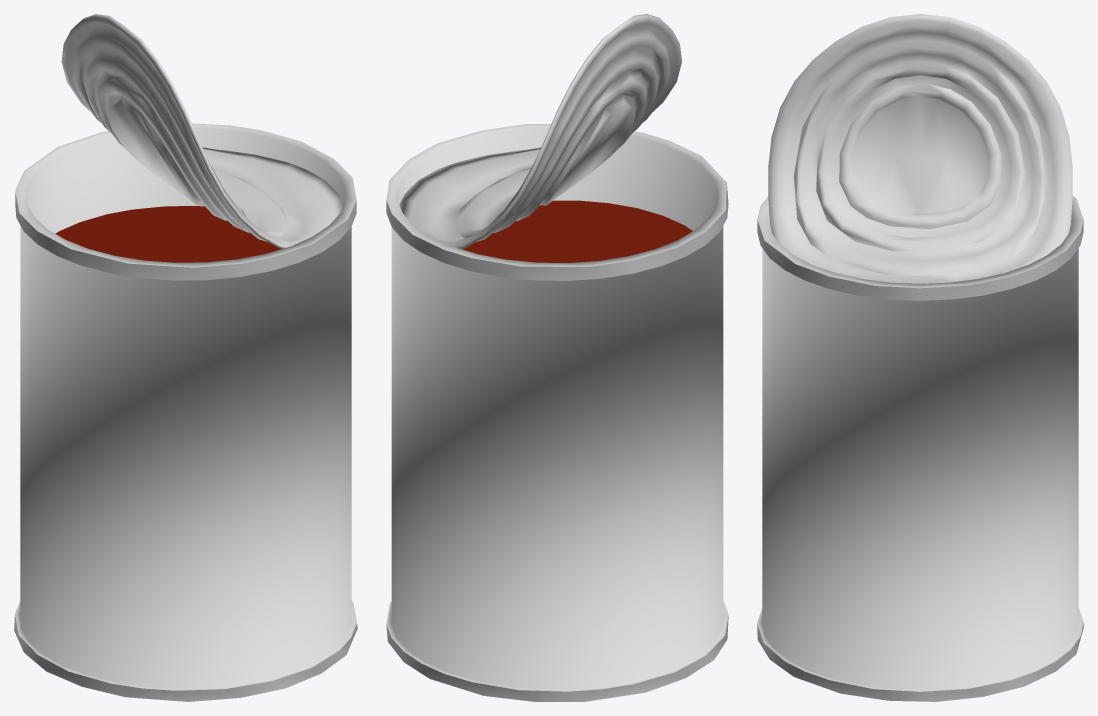
File: tomatburck50.fbx
The picture shows the model from 3 angles, left to right: view 1: azimuth 30°, elevation 25°; view 2: azimuth 150°, elevation 25°; view 3: azimuth 270°, elevation 25°; orthographic projection. The views are drawn at different scales.
Visible parts, largest first — view 1: Burk.001, Lid.001, sos.001; view 2: Burk.001, Lid.001, sos.001; view 3: Burk.001, Lid.001.
Boxes of the visible parts, bbox=[...] form: Burk.001: bbox=[14, 123, 357, 701]; Lid.001: bbox=[61, 14, 343, 248]; sos.001: bbox=[55, 206, 281, 262]; Burk.001: bbox=[386, 124, 728, 701]; Lid.001: bbox=[399, 14, 681, 248]; sos.001: bbox=[461, 200, 692, 262]; Burk.001: bbox=[757, 195, 1083, 701]; Lid.001: bbox=[768, 14, 1072, 283].
Bounding box in the file's own units: 11.64 × 23.21 × 11.64.
